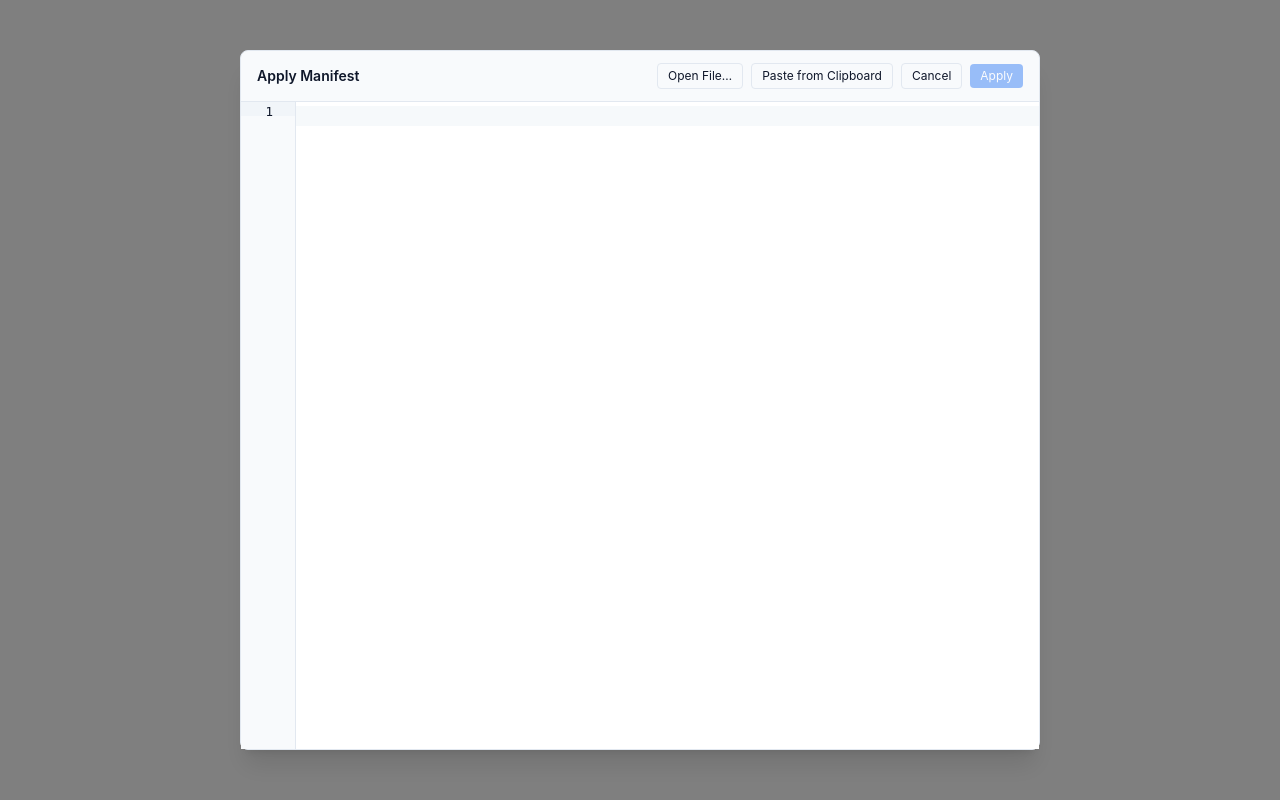
it: ApplyManifestDialog › shows results section after Apply is clicked
Click the button "Paste from Clipboard".
click(822, 76)  # box [751, 63, 893, 89]
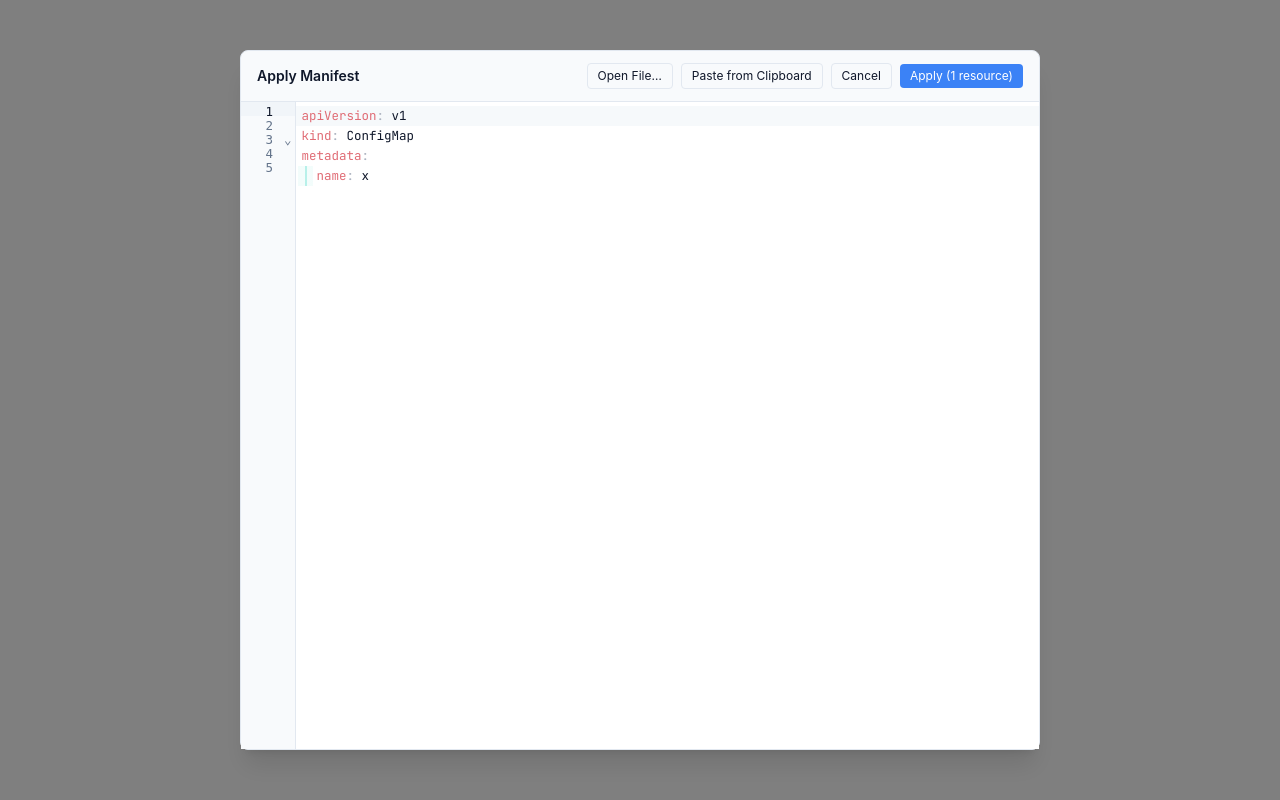
Click the button "Apply (1 resource)".
click(962, 76)  # box [900, 64, 1023, 88]
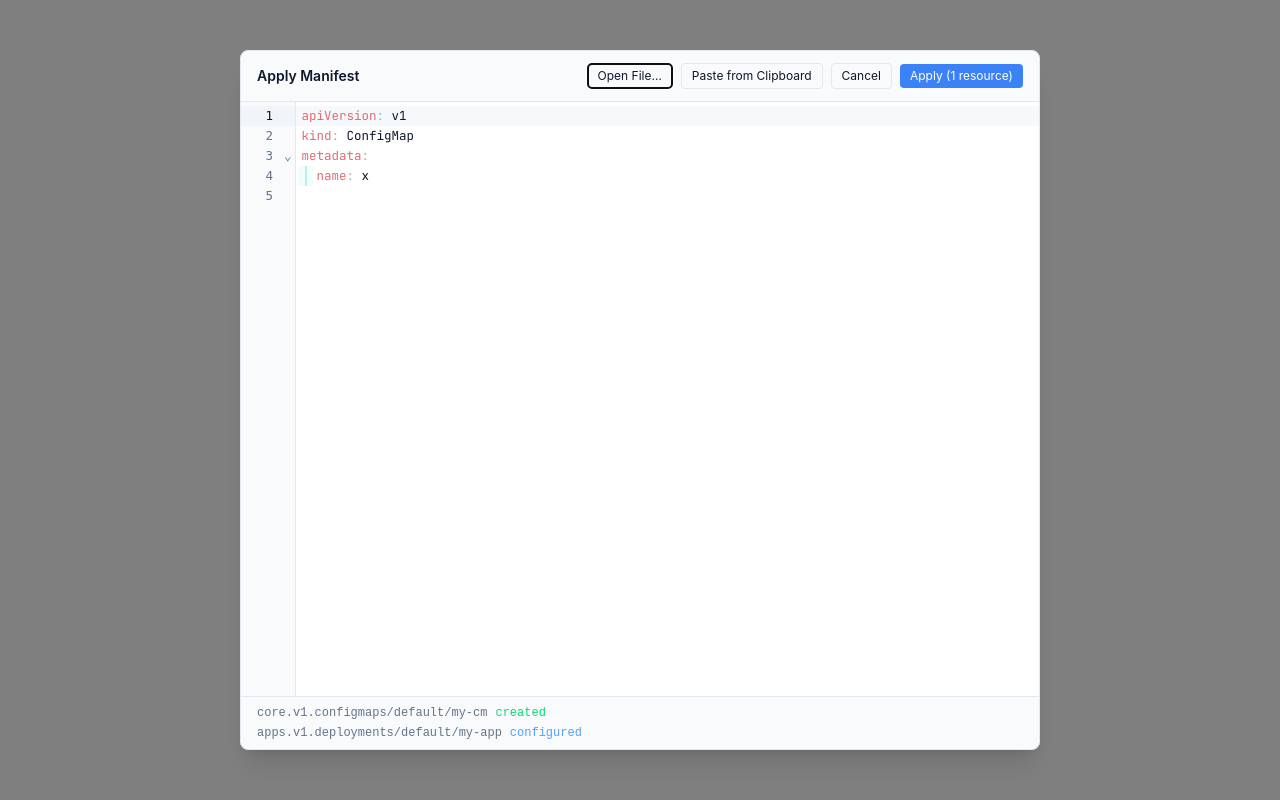
Expected: the text "created" is shown, [495, 705, 546, 721]
